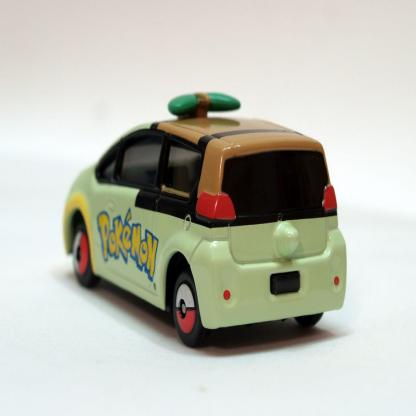Car: (62, 92, 348, 351)
